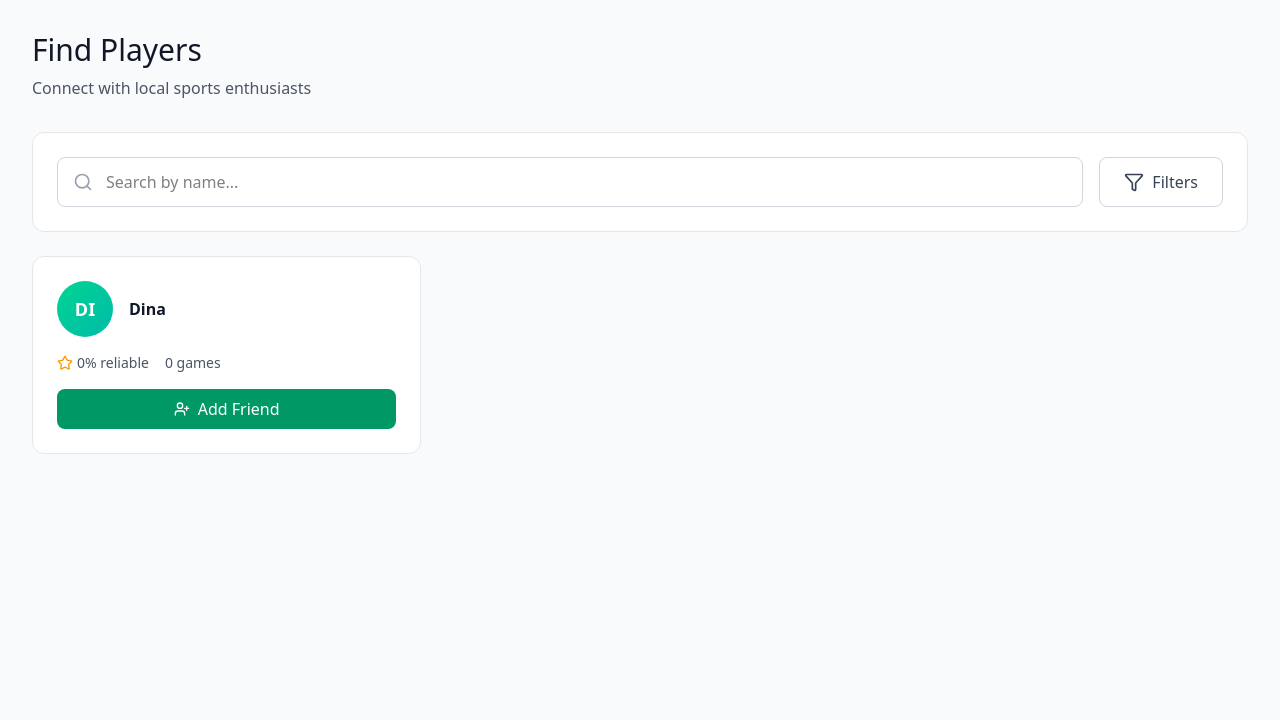
Test: PlayerSearch › add friend network error: shows friendly connection error message
The image size is (1280, 720).
Check: the heading "Dina" is shown, box [129,297,166,321]
Click the button "Add Friend". click: (227, 409)
box: [57,389,396,429]
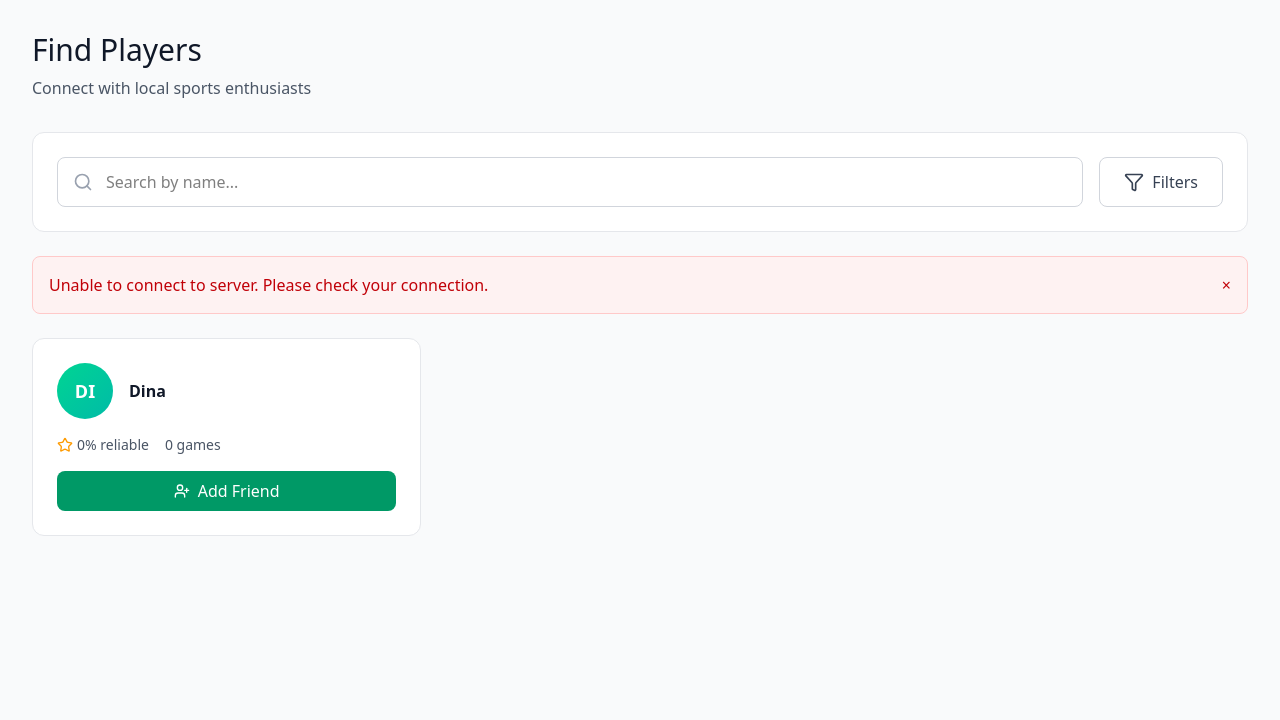
Check: the text "Unable to connect to server. Please check your connection." is shown, box [49,273,488,297]
